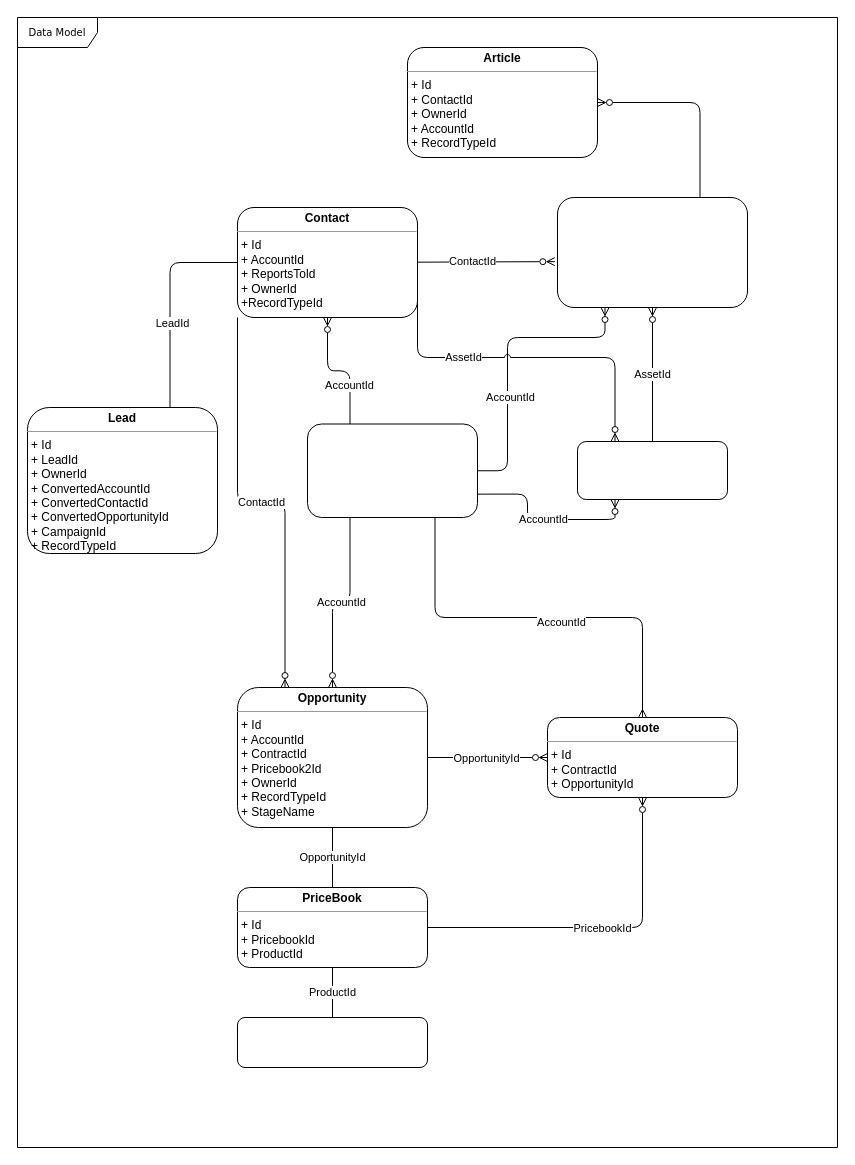
The diagram is 855 pixels wide and 1165 high, and some of its shapes have lost their labels. The shapes that lost their labels are listed below. From the top down, each one's box as (x1, y1, x2, y2) in pixels, then its label:
(556, 196, 748, 308): Case + Id + ContactId + OwnerId + AccountId + RecordTypeId
(306, 423, 478, 518): Account + Id + ParentId + OwnerId + RecordTypeId
(576, 440, 728, 500): Asset + Id
(236, 1016, 428, 1068): Product + ProductId
